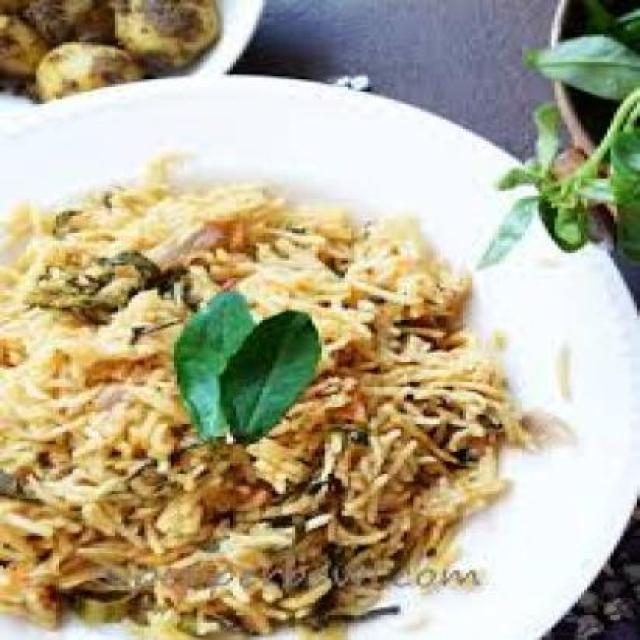biriyani: (0, 163, 522, 640)
